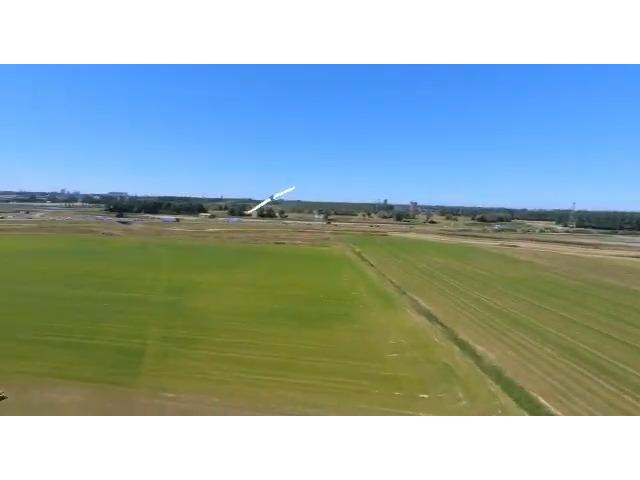Anti-Drone: (240, 176, 306, 221)
